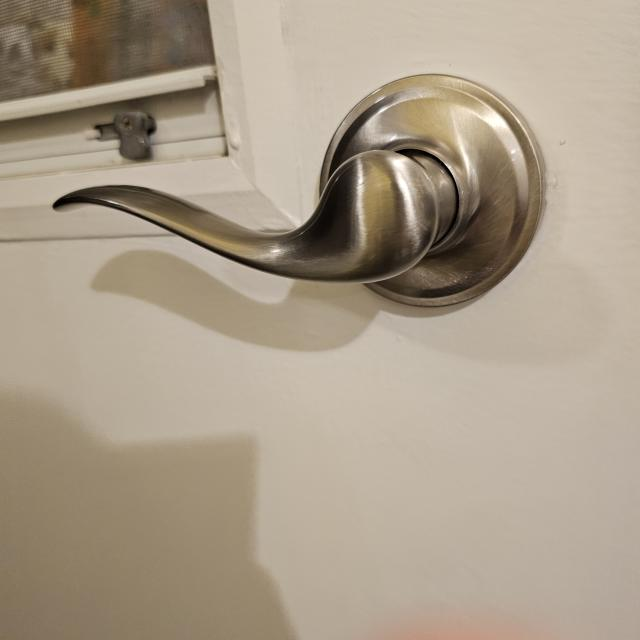door-handle: (54, 75, 544, 306)
